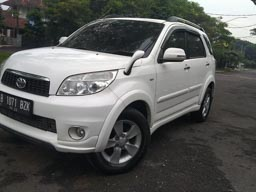plat: (1, 92, 32, 117)
